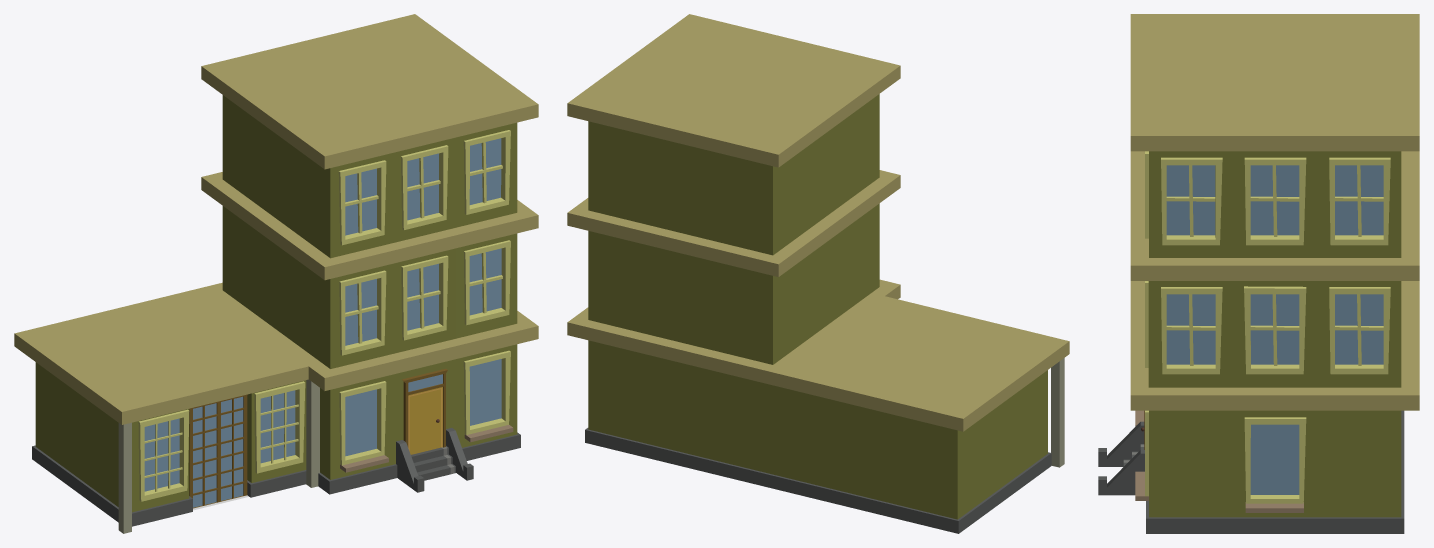
The model's file is building-1.1.fbx.
The picture shows the model from 3 angles, left to right: view 1: azimuth 30°, elevation 25°; view 2: azimuth 150°, elevation 25°; view 3: azimuth 270°, elevation 25°; orthographic projection. The views are drawn at different scales.
Visible parts, largest first — view 1: building-1; view 2: building-1; view 3: building-1.
Part boxes in pixels (left/top/right/bottom): building-1: left=14, top=14, right=538, bottom=533; building-1: left=567, top=14, right=1069, bottom=533; building-1: left=1098, top=14, right=1419, bottom=533.
Size of the model in its own units: 643 by 530 by 382.
